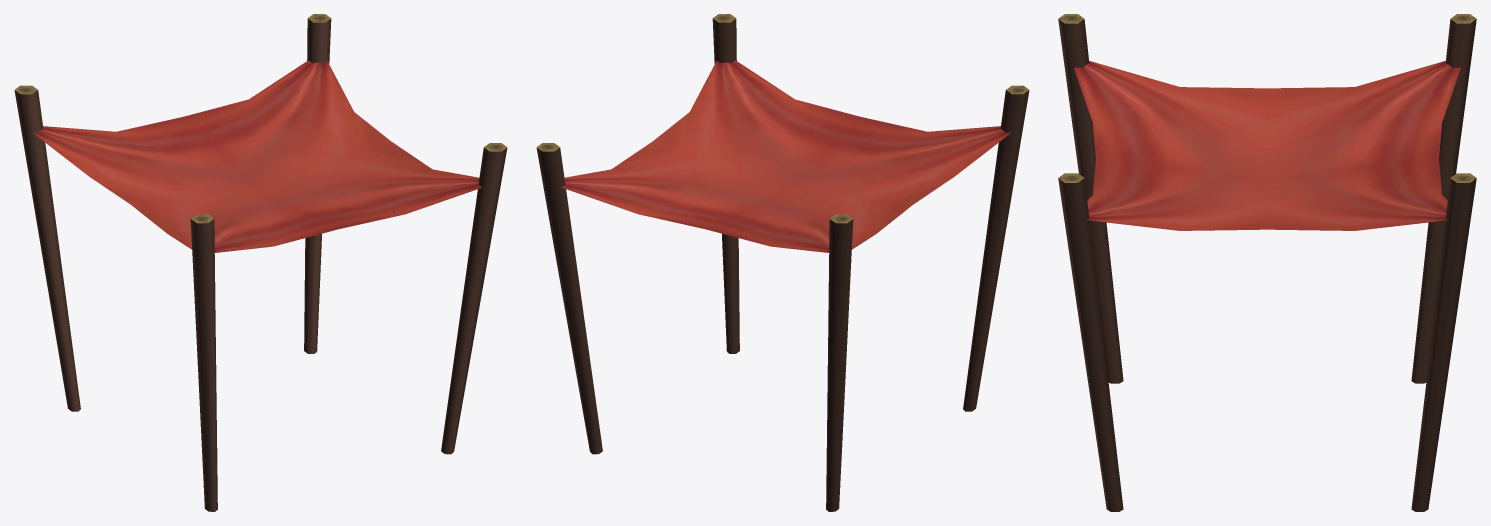
File: zhucheng_tanwei_2.FBX
The picture shows the model from 3 angles, left to right: view 1: azimuth 30°, elevation 25°; view 2: azimuth 150°, elevation 25°; view 3: azimuth 270°, elevation 25°; orthographic projection. The views are drawn at different scales.
Visible parts, largest first — view 1: zhucheng_tanwei_2; view 2: zhucheng_tanwei_2; view 3: zhucheng_tanwei_2.
Part boxes in pixels (left/top/right/bottom): zhucheng_tanwei_2: left=14, top=14, right=507, bottom=511; zhucheng_tanwei_2: left=536, top=14, right=1029, bottom=511; zhucheng_tanwei_2: left=1058, top=14, right=1476, bottom=511.
Size of the model in its own units: 264 by 253 by 277.
